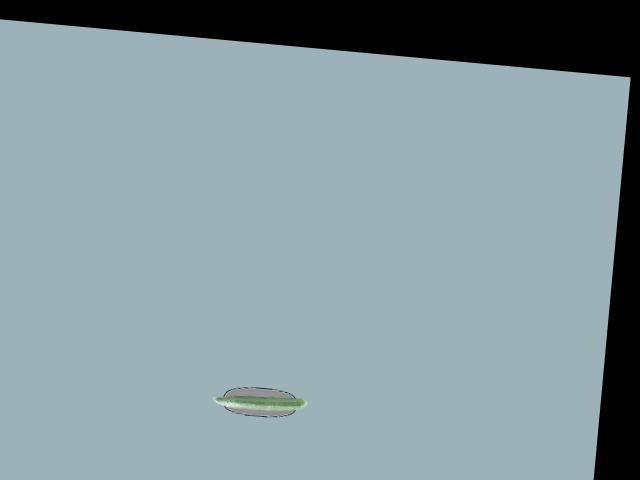cucumber: (211, 389, 307, 413)
